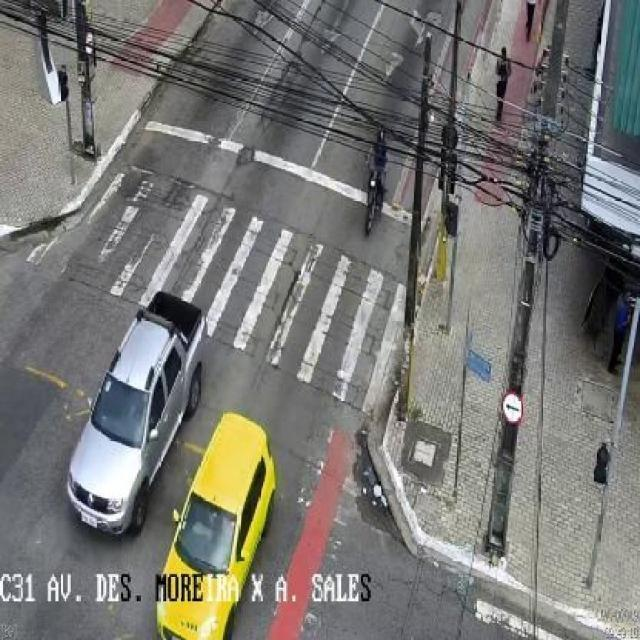Car: (51, 294, 195, 529), (141, 410, 276, 632), (357, 116, 399, 247)
